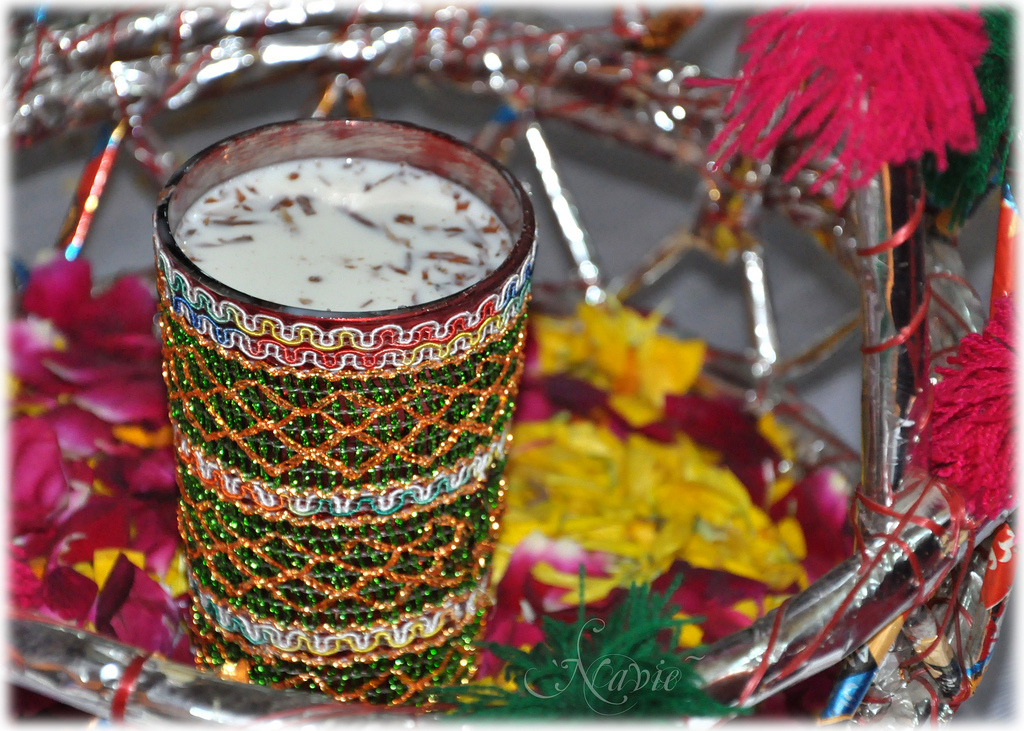glass of milk: (150, 118, 539, 449)
